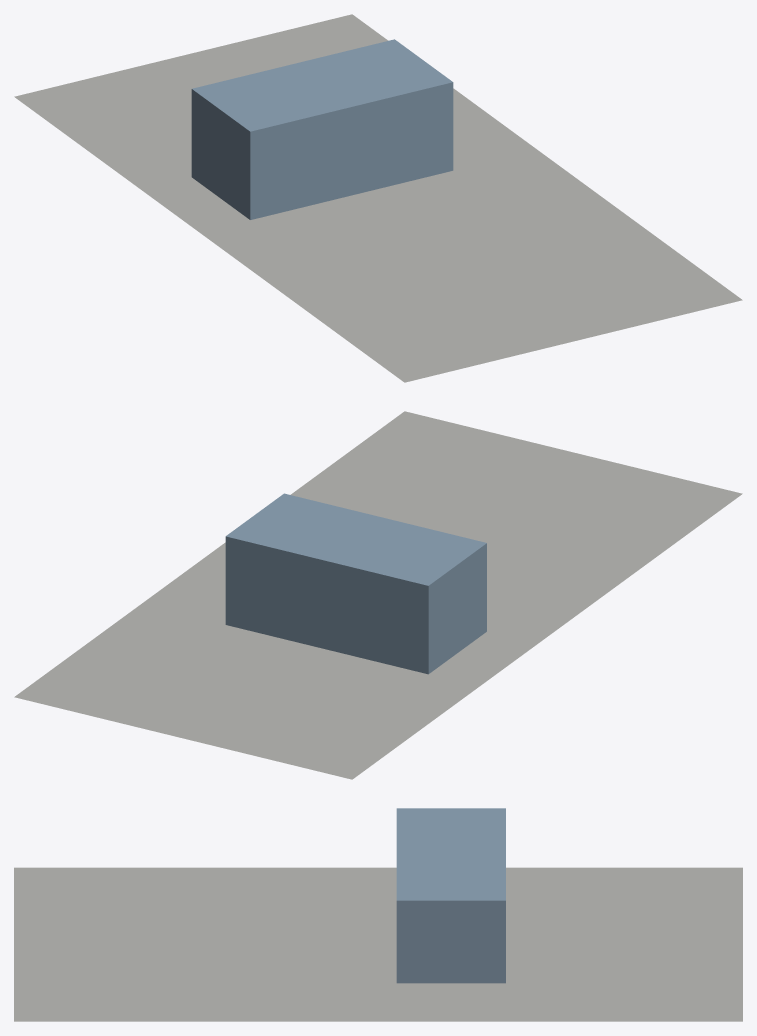
Rendered from tile-e.glb.
The picture shows the model from 3 angles, top to bottom: view 1: azimuth 30°, elevation 25°; view 2: azimuth 150°, elevation 25°; view 3: azimuth 270°, elevation 25°; orthographic projection. The views are drawn at different scales.
Visible parts, largest first — view 1: GROUND_E_20x40m, SHED_E_12x6x5m; view 2: GROUND_E_20x40m, SHED_E_12x6x5m; view 3: GROUND_E_20x40m, SHED_E_12x6x5m.
Part boxes in pixels (<box>): GROUND_E_20x40m: <box>14,14,742,382</box>; SHED_E_12x6x5m: <box>191,39,453,219</box>; GROUND_E_20x40m: <box>14,411,742,779</box>; SHED_E_12x6x5m: <box>225,493,486,674</box>; GROUND_E_20x40m: <box>14,867,742,1021</box>; SHED_E_12x6x5m: <box>396,808,505,983</box>.
Bounding box in the file's own units: 20 × 5 × 40.
